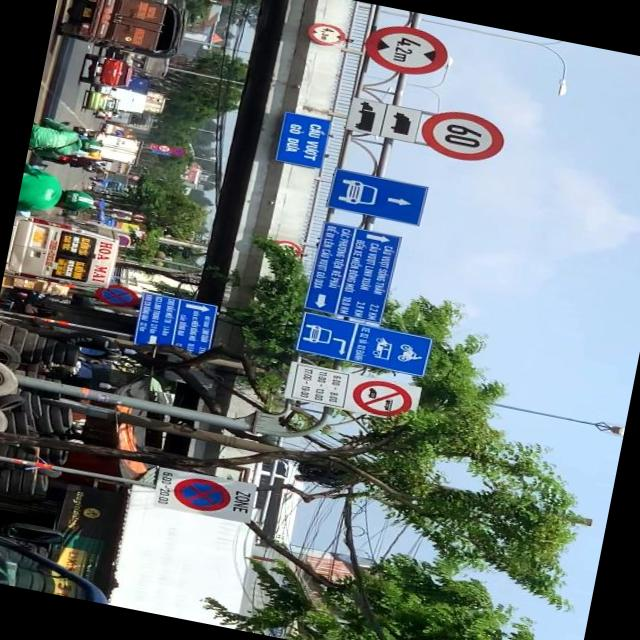P-117: (362, 19, 452, 82)
P-130: (168, 474, 234, 516)
